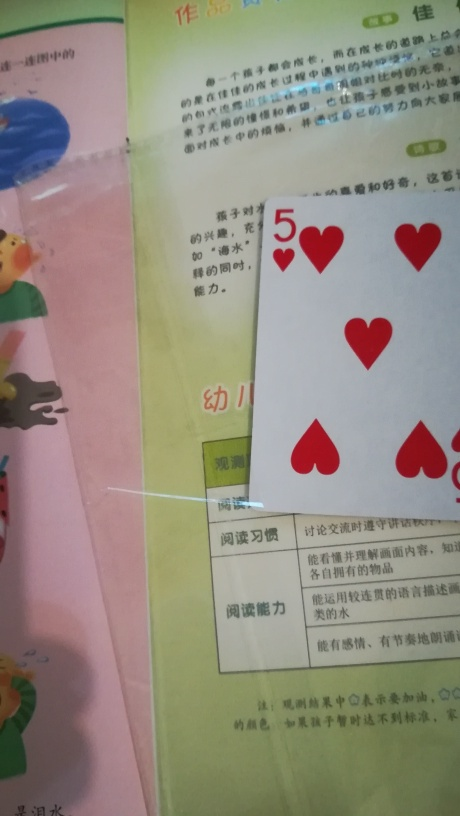hx 5: (252, 193, 460, 521)
